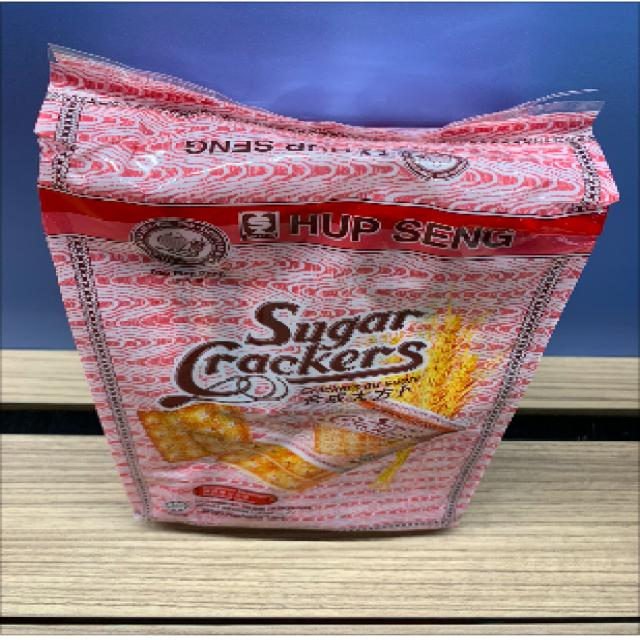object_name: (52, 81, 531, 525)
